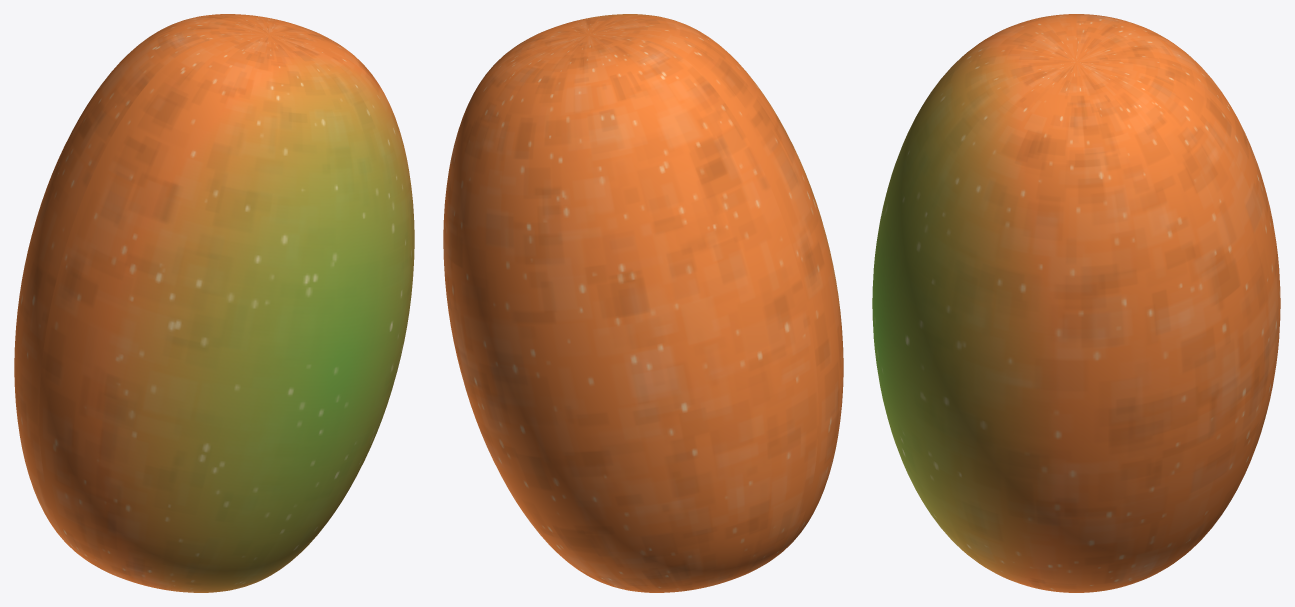
The model's file is papaya.glb.
The picture shows the model from 3 angles, left to right: view 1: azimuth 30°, elevation 25°; view 2: azimuth 150°, elevation 25°; view 3: azimuth 270°, elevation 25°; orthographic projection. The views are drawn at different scales.
Bounding box in the file's own units: 0.106 × 0.1528 × 0.1015.
1 material, 1 textured.
